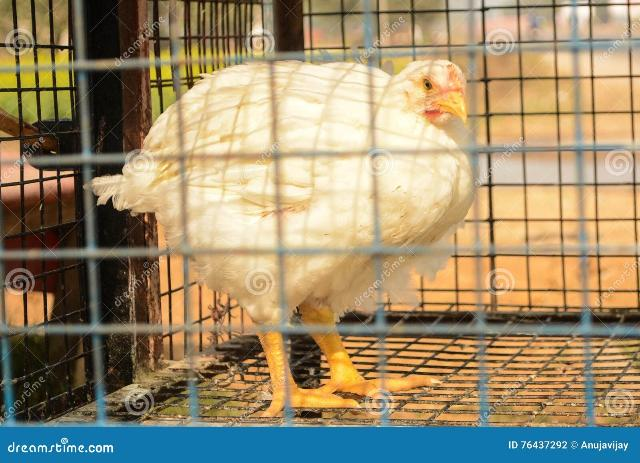Chicken: (82, 57, 480, 421)
